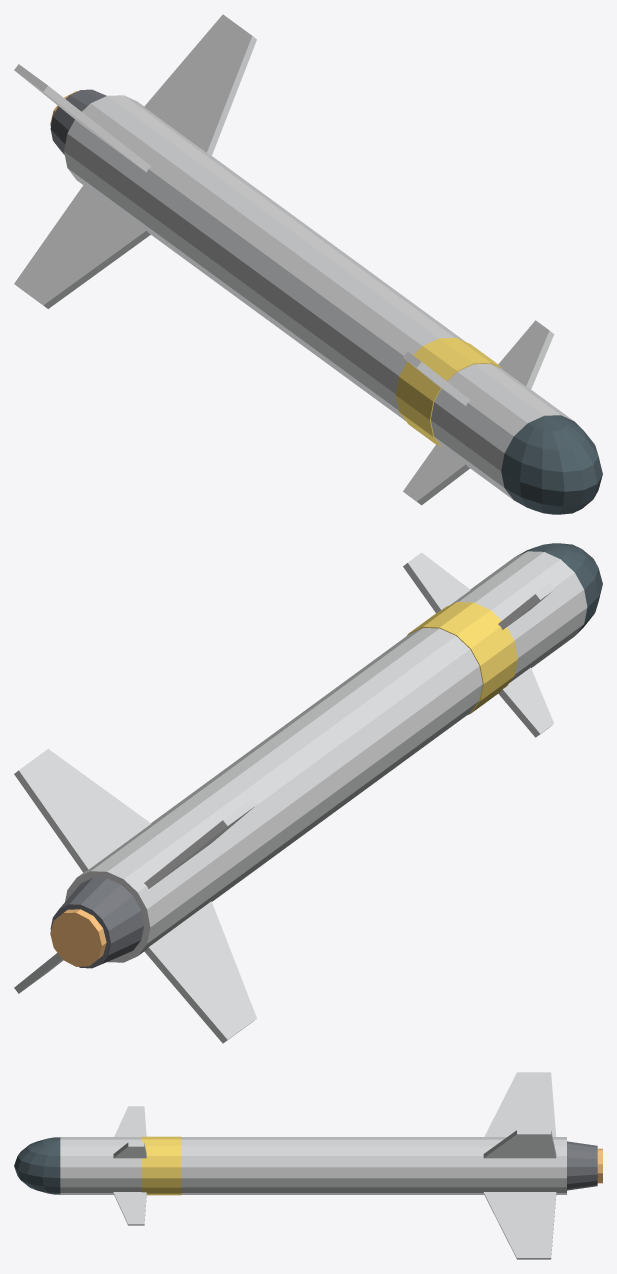
Rendered from FX_Missile.fbx.
3 renders of one model, top to bottom at view 1: azimuth 30°, elevation 25°; view 2: azimuth 150°, elevation 25°; view 3: azimuth 270°, elevation 25°, orthographic. The views are drawn at different scales.
Visible parts, largest first — view 1: Body.008, Seeker.001, Band.001, Trim.008; view 2: Body.008, Band.001, Trim.008, Glow.009, Seeker.001; view 3: Body.008, Band.001, Seeker.001, Trim.008.
Part boxes in pixels (x1=…): Body.008: x1=14, y1=14, x2=573, y2=505; Seeker.001: x1=501, y1=415, x2=602, y2=514; Band.001: x1=395, y1=337, x2=501, y2=446; Trim.008: x1=50, y1=89, x2=106, y2=154; Body.008: x1=14, y1=551, x2=587, y2=1043; Band.001: x1=407, y1=602, x2=517, y2=714; Trim.008: x1=50, y1=878, x2=143, y2=968; Glow.009: x1=50, y1=909, x2=106, y2=966; Seeker.001: x1=514, y1=543, x2=602, y2=634; Body.008: x1=60, y1=1072, x2=566, y2=1259; Band.001: x1=141, y1=1136, x2=181, y2=1195; Seeker.001: x1=14, y1=1137, x2=60, y2=1194; Trim.008: x1=567, y1=1141, x2=597, y2=1190.
Bounding box in the file's own units: 0.7927 × 0.7927 × 3.26.
